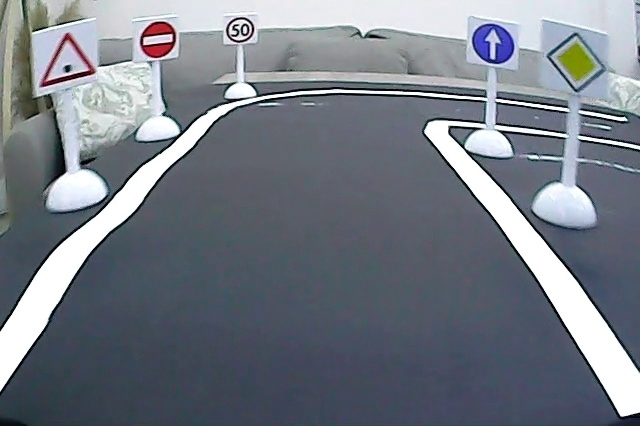do not enter: (137, 18, 180, 61)
green light: (35, 28, 99, 91)
speed limit 50: (225, 16, 256, 45)
